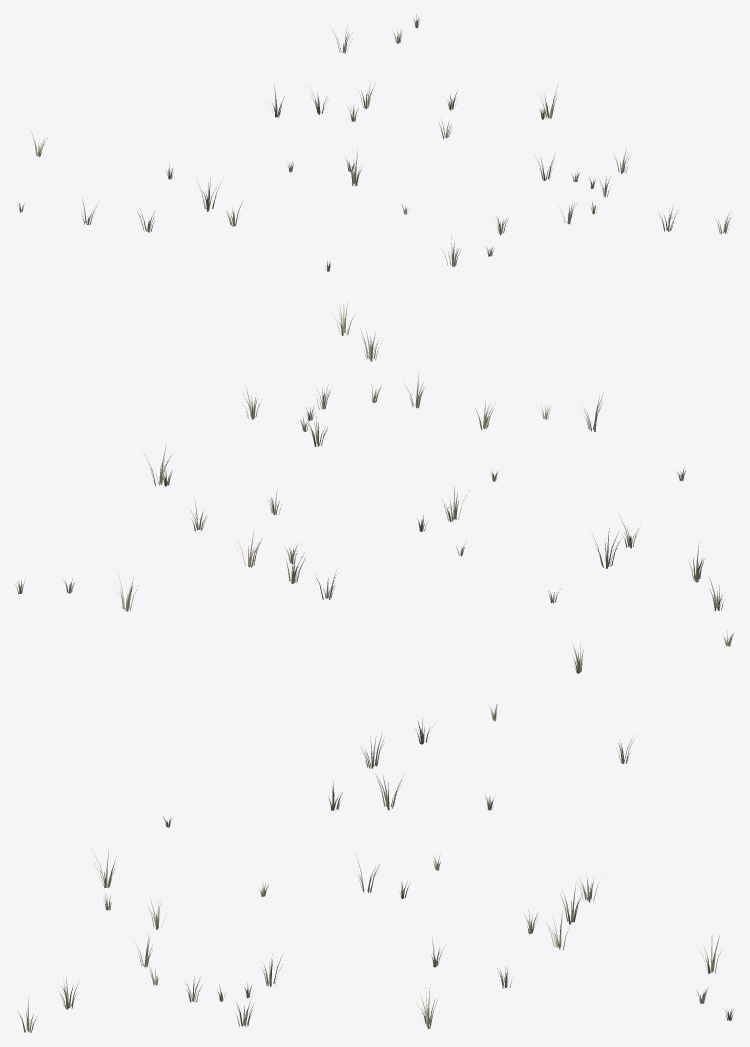
File: AE_Grass_3_-2.fbx
3 views of the same model, one above another, from view 1: azimuth 30°, elevation 25°; view 2: azimuth 150°, elevation 25°; view 3: azimuth 270°, elevation 25° (orthographic). The views are drawn at different scales.
Parts seen in each view (by area): view 1: AE_Grass_3_-2_LOD0; view 2: AE_Grass_3_-2_LOD0; view 3: AE_Grass_3_-2_LOD0.
Part boxes in pixels (x1,y1,x2,y2): AE_Grass_3_-2_LOD0: (17, 14, 731, 271); AE_Grass_3_-2_LOD0: (15, 303, 734, 673); AE_Grass_3_-2_LOD0: (18, 704, 733, 1032).
Size of what is drawn, in the model's own units: 1710 by 115 by 1671.
